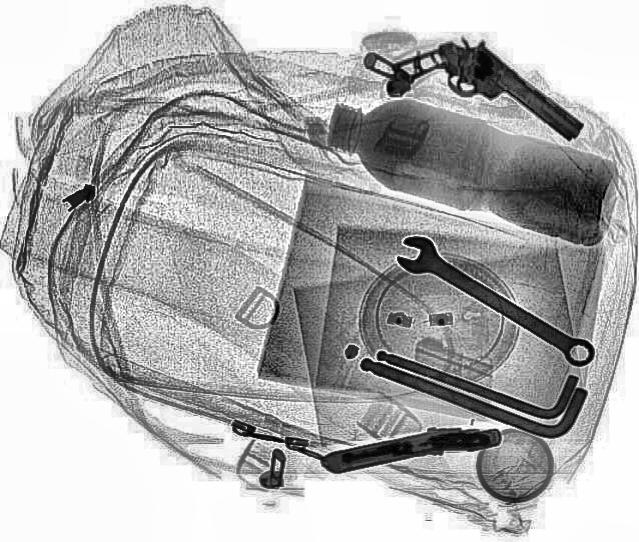Gun: (388, 16, 590, 176), (318, 417, 506, 475)
Wrench: (386, 231, 606, 372)
